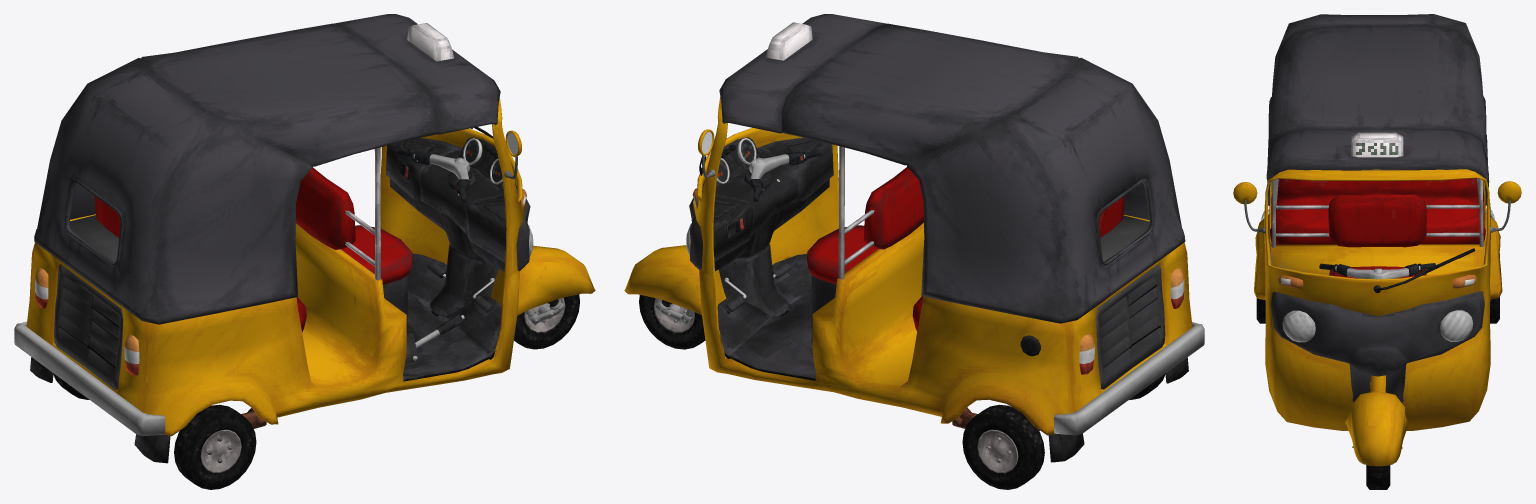
The model's file is tuktukDrarkeras.glb.
3 views of the same model, side by side, from view 1: azimuth 30°, elevation 25°; view 2: azimuth 150°, elevation 25°; view 3: azimuth 270°, elevation 25° (orthographic). The views are drawn at different scales.
Parts seen in each view (by area): view 1: Chasis; view 2: Chasis; view 3: Chasis.
Part boxes in pixels (bbox=[...]): Chasis: bbox=[14, 14, 595, 489]; Chasis: bbox=[624, 14, 1204, 489]; Chasis: bbox=[1233, 14, 1521, 489].
Size of the model in its own units: 2.84 by 1.8 by 1.54.
1 material, 1 textured.
